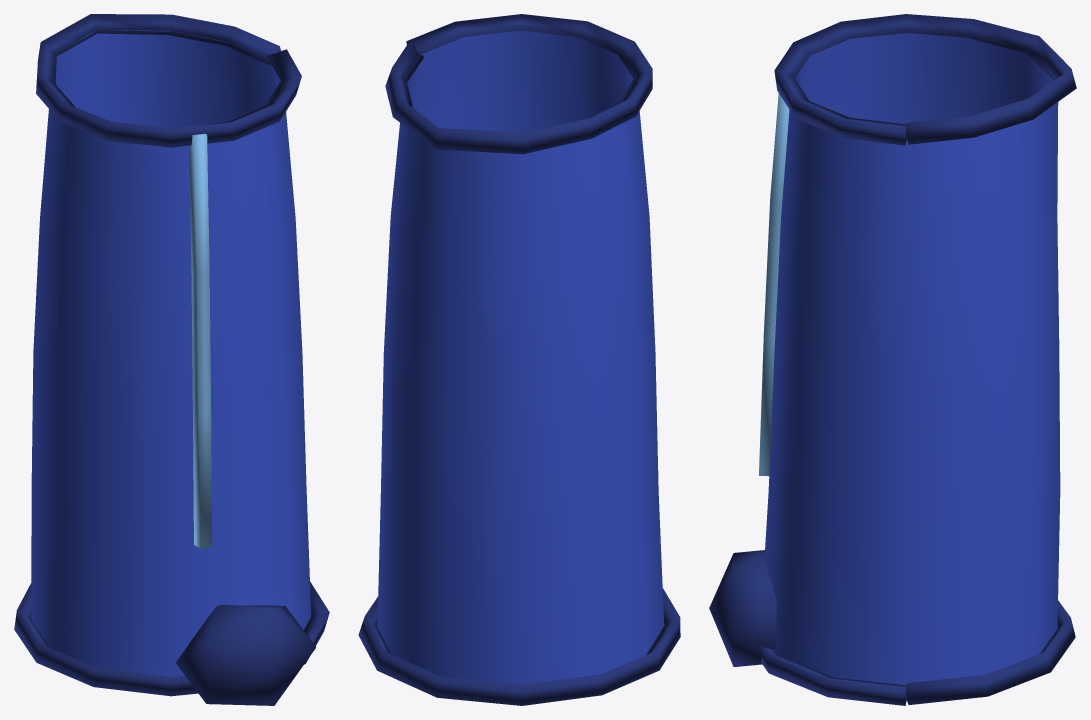
Rendered from shroomite_armor_greave.R.glb.
3 renders of one model, left to right at view 1: azimuth 30°, elevation 25°; view 2: azimuth 150°, elevation 25°; view 3: azimuth 270°, elevation 25°, orthographic. The views are drawn at different scales.
Visible parts, largest first — view 1: shroomite_armor_greave.R; view 2: shroomite_armor_greave.R; view 3: shroomite_armor_greave.R.
Boxes of the visible parts, x1,y1,x2,y2 form: shroomite_armor_greave.R: [14, 14, 329, 705]; shroomite_armor_greave.R: [358, 14, 680, 705]; shroomite_armor_greave.R: [709, 14, 1076, 705].
Size of the model in its own units: 0.1998 by 0.4044 by 0.2286.
